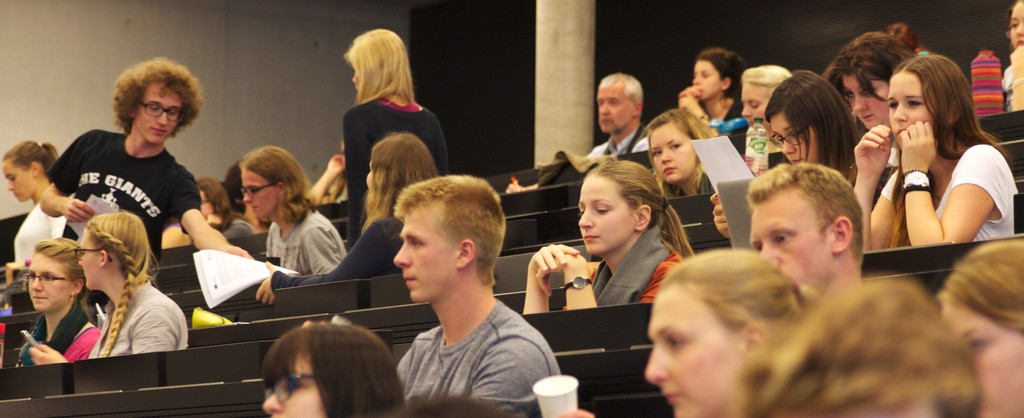Human_hand: (534, 249, 595, 299), (852, 124, 893, 181), (897, 119, 938, 172), (253, 262, 279, 308), (27, 343, 68, 369), (63, 197, 98, 224), (709, 193, 729, 238), (221, 244, 254, 262), (325, 153, 346, 178), (675, 93, 698, 114), (555, 408, 595, 417), (675, 84, 701, 97), (505, 180, 527, 194)
